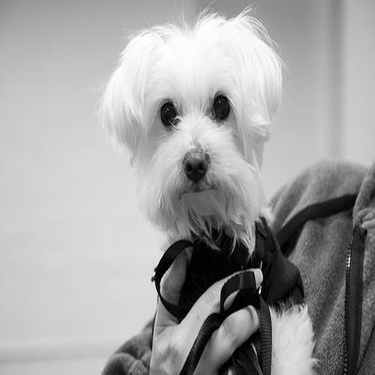dog: (79, 2, 326, 373)
